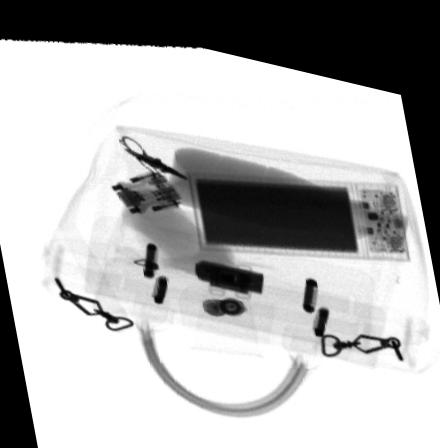Powerbank: (184, 162, 409, 241)
Scissors: (118, 128, 188, 171)
